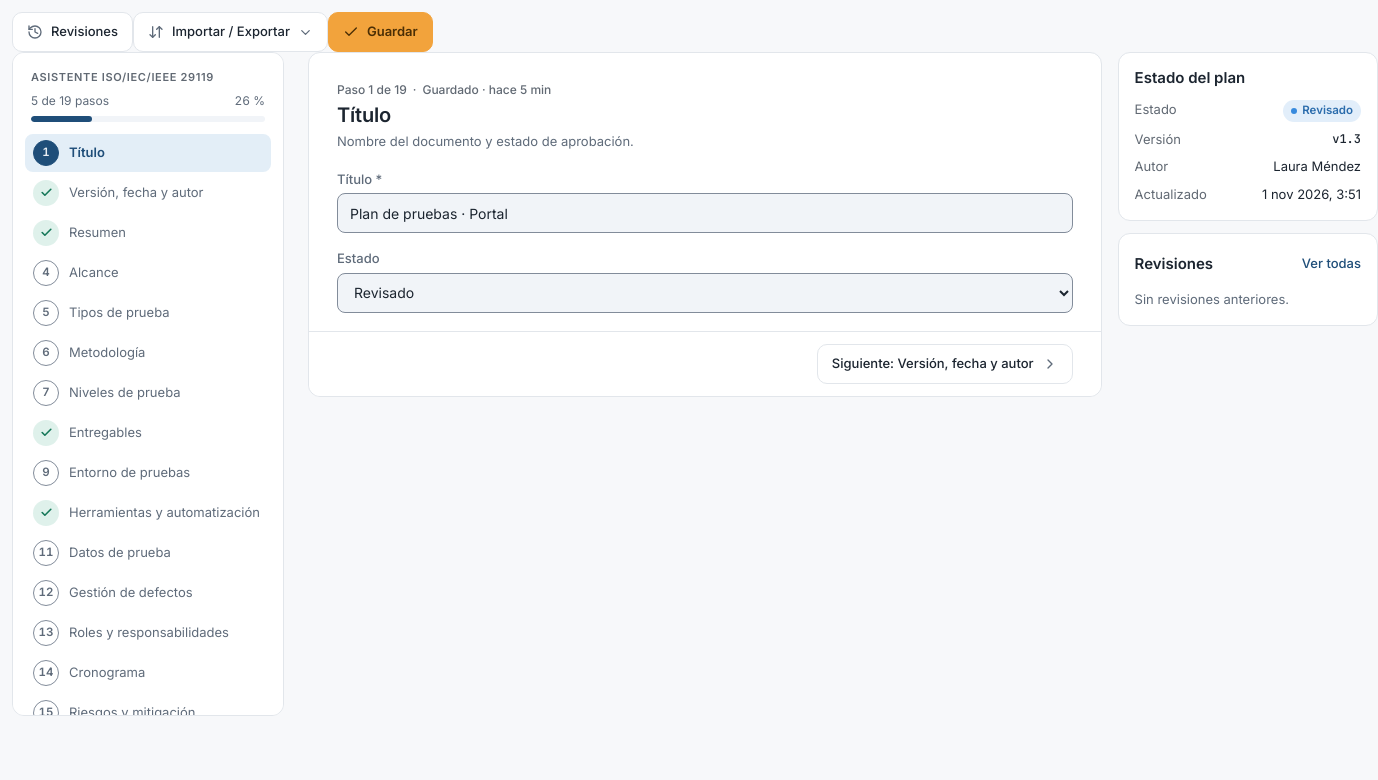
plan wizard (SPEC §8 «Plan») › shows «Paso N de 19» and the save state above the step
Check: the text "Paso 1 de 19" is shown, box left=337, top=81, right=407, bottom=99
Check: the text "Guardado · hace 5 min" is shown, box left=422, top=81, right=551, bottom=99
In the field labelled "Título *": (705, 213) left=337, top=193, right=1073, bottom=233, type " v2"
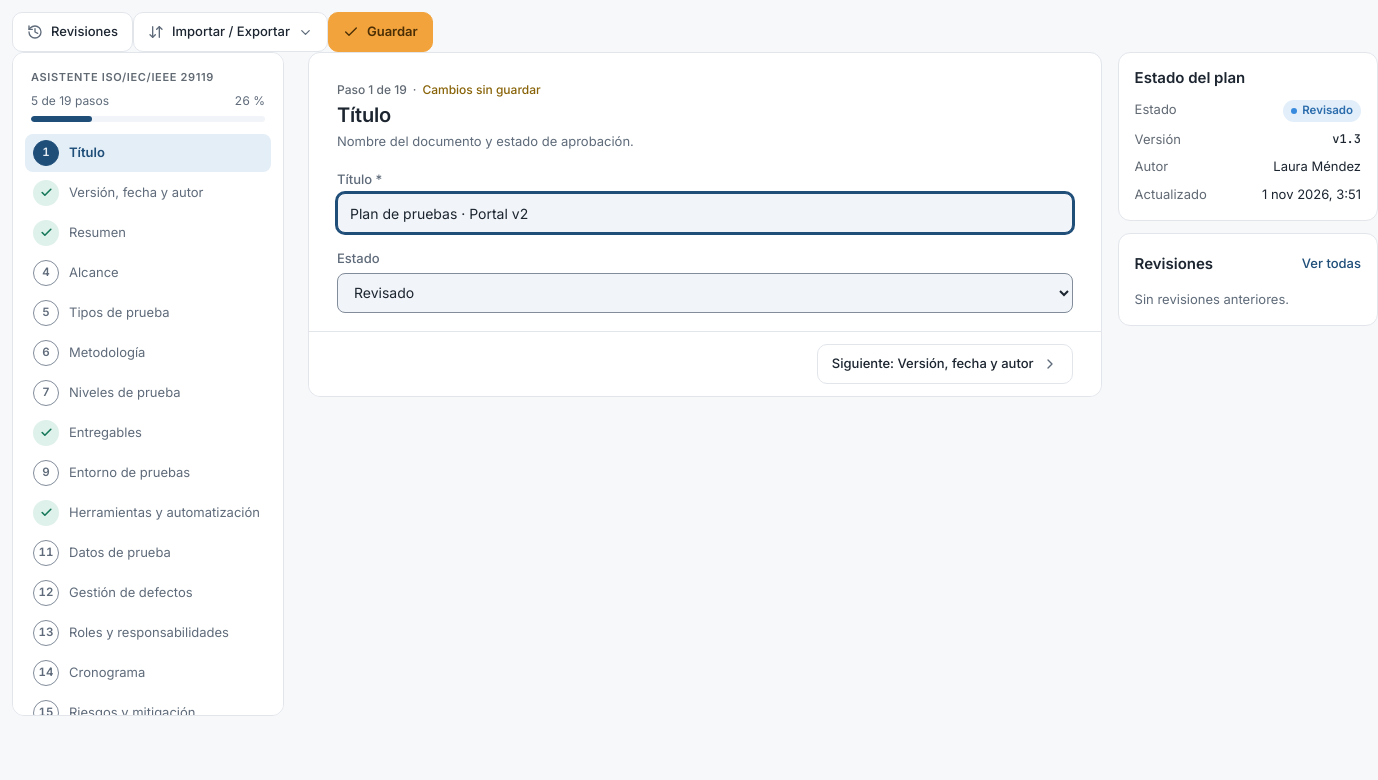
Check: the text "Cambios sin guardar" is shown, box left=422, top=81, right=541, bottom=99
